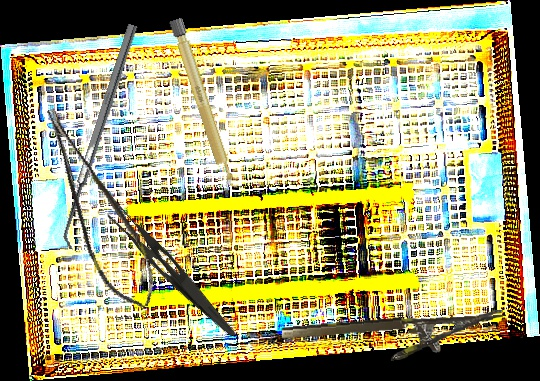Dressing Forceps: (93, 194, 251, 339)
Micro Scissor: (40, 94, 164, 319)
Needle Holder: (281, 309, 506, 369)
Scalpel Handle: (168, 17, 237, 189)
Spatula Surgical: (56, 23, 147, 251)
